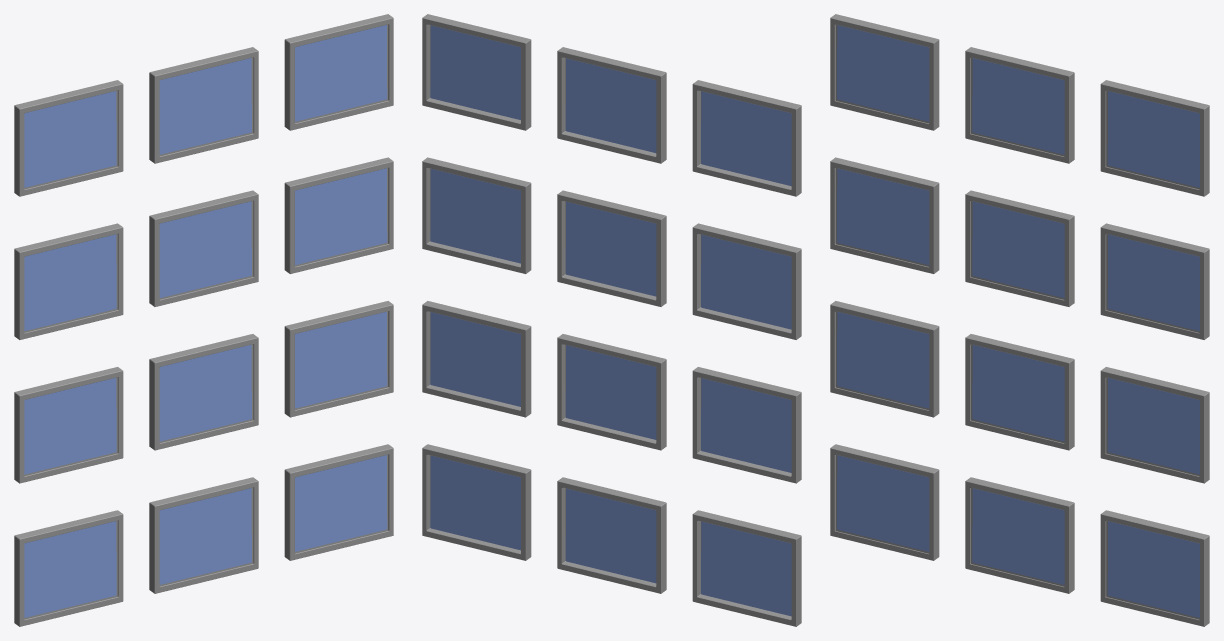
The model's file is windows.fbx.
The picture shows the model from 3 angles, left to right: view 1: azimuth 30°, elevation 25°; view 2: azimuth 150°, elevation 25°; view 3: azimuth 330°, elevation 25°; orthographic projection.
Parts seen in each view (by area): view 1: Cube.003; view 2: Cube.003; view 3: Cube.003.
Boxes of the visible parts, x1,y1,x2,y2 form: Cube.003: (14,14,393,626); Cube.003: (422,14,801,626); Cube.003: (830,14,1209,626).
Size of the model in its own units: 29.14 by 38.53 by 0.7495.
